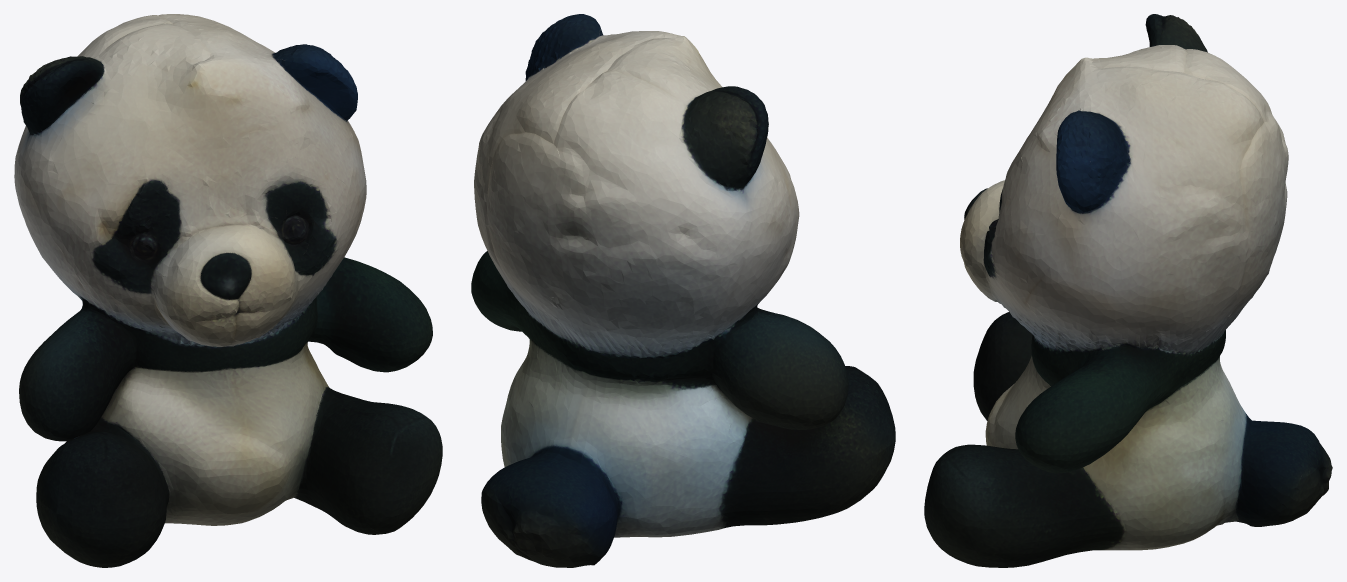
Rendered from panda.glb.
The picture shows the model from 3 angles, left to right: view 1: azimuth 30°, elevation 25°; view 2: azimuth 150°, elevation 25°; view 3: azimuth 270°, elevation 25°; orthographic projection. The views are drawn at different scales.
Parts seen in each view (by area): view 1: world; view 2: world; view 3: world.
Part boxes in pixels (x1,y1,x2,y2): world: (14,14,442,567); world: (471,14,895,567); world: (924,14,1332,567).
Size of the model in its own units: 0.4447 by 0.5002 by 0.4136.
Materials: 1 (1 with a texture image).
